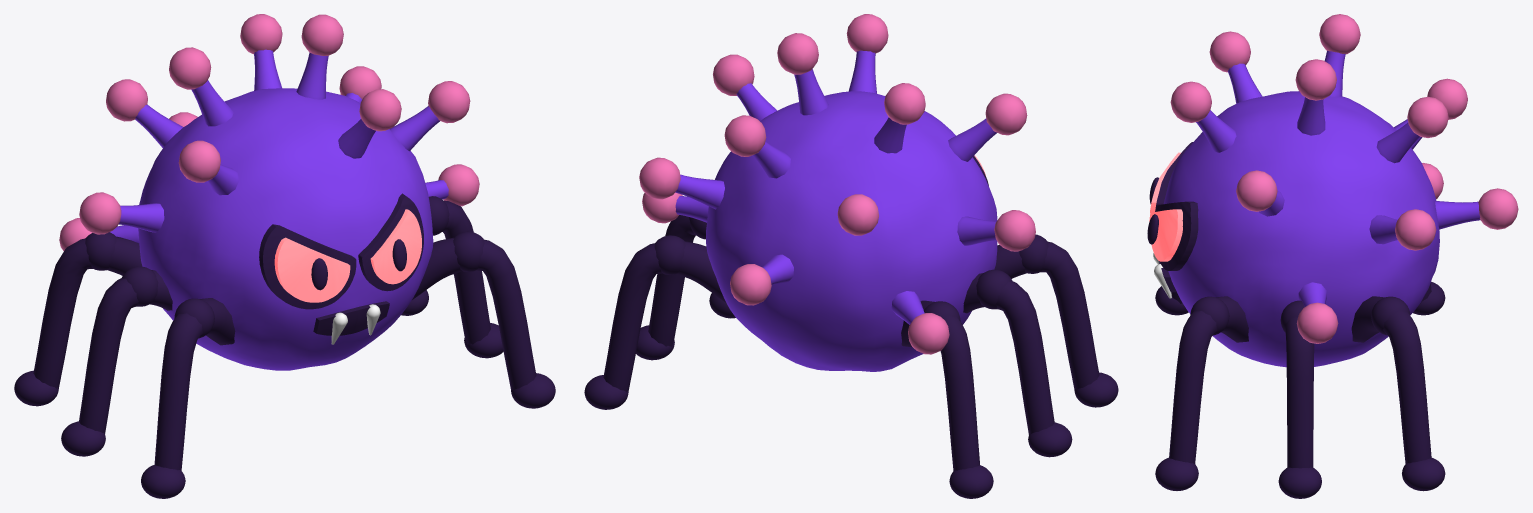
The model's file is VirusBug.glb.
The picture shows the model from 3 angles, left to right: view 1: azimuth 30°, elevation 25°; view 2: azimuth 150°, elevation 25°; view 3: azimuth 270°, elevation 25°; orthographic projection. The views are drawn at different scales.
Parts seen in each view (by area): view 1: Body__SmoothPlastic__7C3AED, Legs__SmoothPlastic__2A1446, Knobs__SmoothPlastic__F472B6, Dark__SmoothPlastic__2A1446, Eyes__Neon__F0565B, Fangs__SmoothPlastic__FFFFFF; view 2: Body__SmoothPlastic__7C3AED, Legs__SmoothPlastic__2A1446, Knobs__SmoothPlastic__F472B6; view 3: Body__SmoothPlastic__7C3AED, Legs__SmoothPlastic__2A1446, Knobs__SmoothPlastic__F472B6, Dark__SmoothPlastic__2A1446, Eyes__Neon__F0565B.
Boxes of the visible parts, left/top/right/bottom form: Body__SmoothPlastic__7C3AED: left=110, top=49, right=448, bottom=370; Legs__SmoothPlastic__2A1446: left=14, top=196, right=555, bottom=498; Knobs__SmoothPlastic__F472B6: left=59, top=14, right=479, bottom=250; Dark__SmoothPlastic__2A1446: left=259, top=193, right=423, bottom=335; Eyes__Neon__F0565B: left=274, top=209, right=421, bottom=302; Fangs__SmoothPlastic__FFFFFF: left=331, top=304, right=380, bottom=344; Body__SmoothPlastic__7C3AED: left=675, top=50, right=997, bottom=371; Legs__SmoothPlastic__2A1446: left=584, top=215, right=1118, bottom=498; Knobs__SmoothPlastic__F472B6: left=639, top=14, right=1035, bottom=354; Body__SmoothPlastic__7C3AED: left=1163, top=50, right=1480, bottom=367; Legs__SmoothPlastic__2A1446: left=1155, top=281, right=1445, bottom=498; Knobs__SmoothPlastic__F472B6: left=1170, top=14, right=1518, bottom=343; Dark__SmoothPlastic__2A1446: left=1147, top=142, right=1198, bottom=292; Eyes__Neon__F0565B: left=1149, top=152, right=1182, bottom=261.
Bounding box in the file's own units: 4.78 × 3.84 × 3.57.
